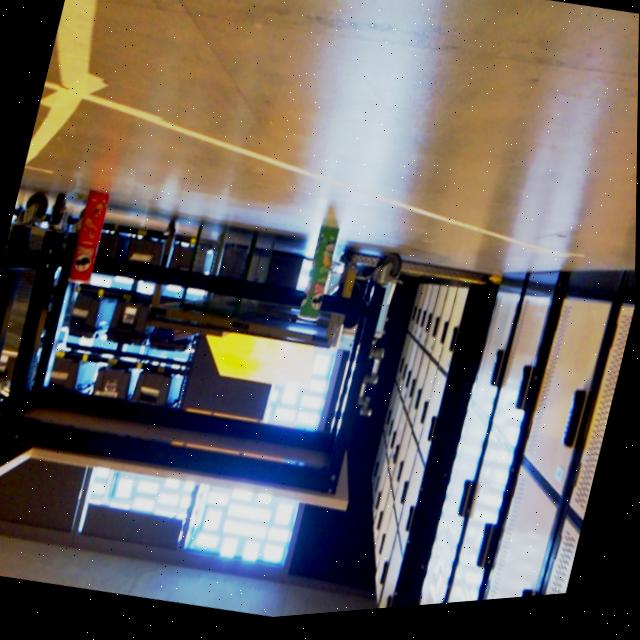greenpringles: (287, 217, 353, 341)
redpringles: (58, 188, 115, 297)
